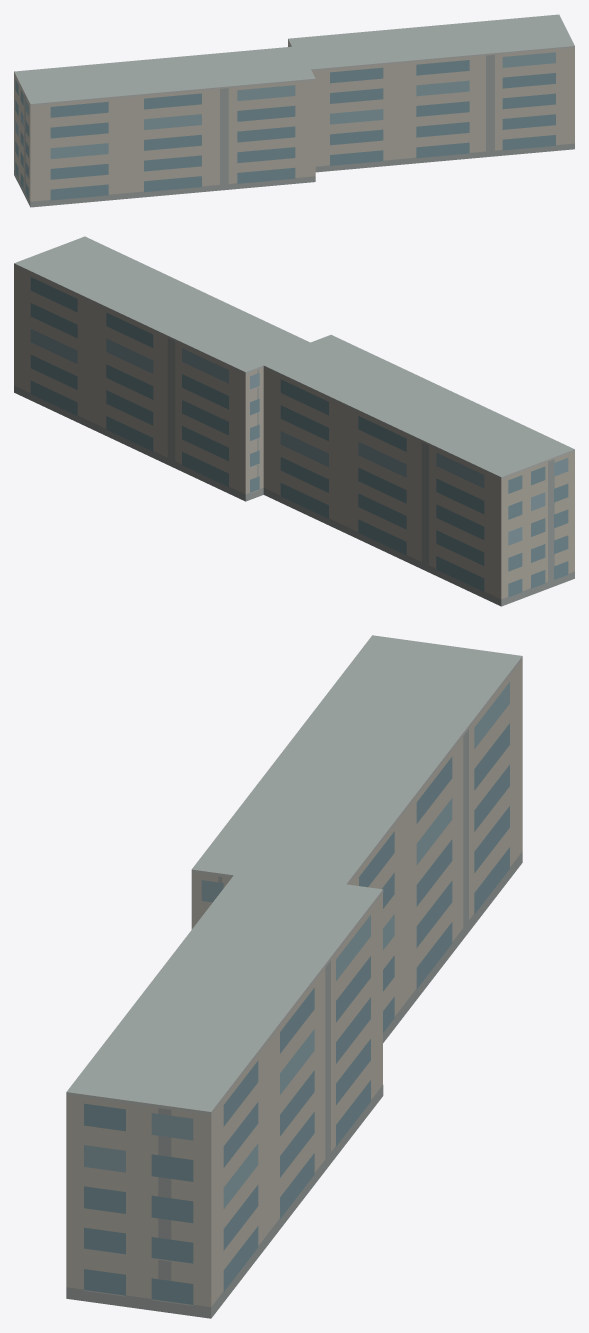
The model's file is residential-bbf2c3ee-de4c-4331-ba2b-fdb3ed66ffd5.glb.
3 views of the same model, one above another, from view 1: azimuth 30°, elevation 25°; view 2: azimuth 150°, elevation 25°; view 3: azimuth 270°, elevation 25° (orthographic). The views are drawn at different scales.
Parts seen in each view (by area): view 1: residential-bbf2c3ee-de4c-4331-ba2b-fdb3ed66ffd5.tmp; view 2: residential-bbf2c3ee-de4c-4331-ba2b-fdb3ed66ffd5.tmp; view 3: residential-bbf2c3ee-de4c-4331-ba2b-fdb3ed66ffd5.tmp.
Boxes of the visible parts, <box> form: residential-bbf2c3ee-de4c-4331-ba2b-fdb3ed66ffd5.tmp: <box>14,14,574,207</box>; residential-bbf2c3ee-de4c-4331-ba2b-fdb3ed66ffd5.tmp: <box>14,236,574,606</box>; residential-bbf2c3ee-de4c-4331-ba2b-fdb3ed66ffd5.tmp: <box>66,635,522,1318</box>.
Size of the model in its own units: 75.46 by 15.25 by 30.52.
